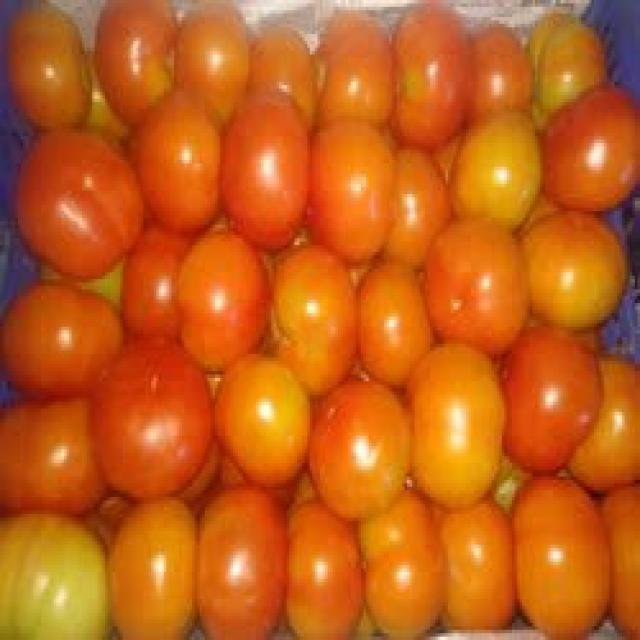Fresh_tomato: (7, 282, 199, 498), (516, 341, 640, 489), (10, 139, 146, 268), (149, 223, 276, 358), (5, 505, 112, 640), (211, 370, 319, 492), (522, 496, 610, 631), (139, 108, 243, 214), (422, 380, 507, 509), (528, 223, 631, 329), (207, 504, 287, 640), (327, 391, 416, 512), (366, 513, 452, 637), (120, 505, 198, 640), (440, 227, 522, 351), (11, 4, 93, 123), (232, 120, 320, 230), (397, 8, 466, 134), (286, 252, 365, 362), (296, 507, 360, 640), (320, 140, 402, 243), (462, 515, 525, 637), (553, 116, 640, 204), (590, 494, 640, 640), (102, 8, 176, 105), (325, 15, 389, 126), (397, 155, 472, 245), (540, 9, 605, 110), (470, 132, 541, 221), (252, 13, 315, 112), (374, 266, 432, 370), (188, 10, 244, 106), (478, 18, 528, 122)
